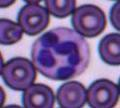N: (32, 27, 90, 81)
